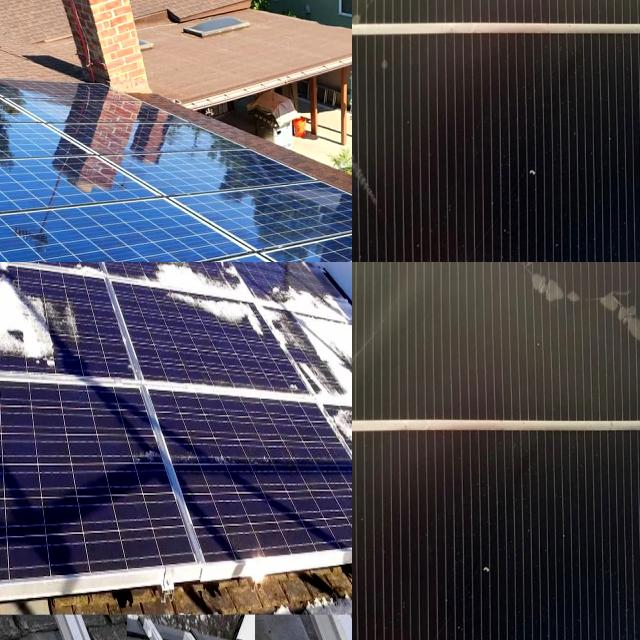crack: (0, 184, 246, 262), (159, 177, 352, 262), (215, 181, 352, 262)
panel: (146, 262, 250, 329), (0, 262, 62, 368), (268, 272, 352, 322), (313, 328, 352, 397), (0, 272, 18, 378), (67, 262, 132, 279), (335, 401, 352, 456)
shadow: (496, 262, 640, 413)
